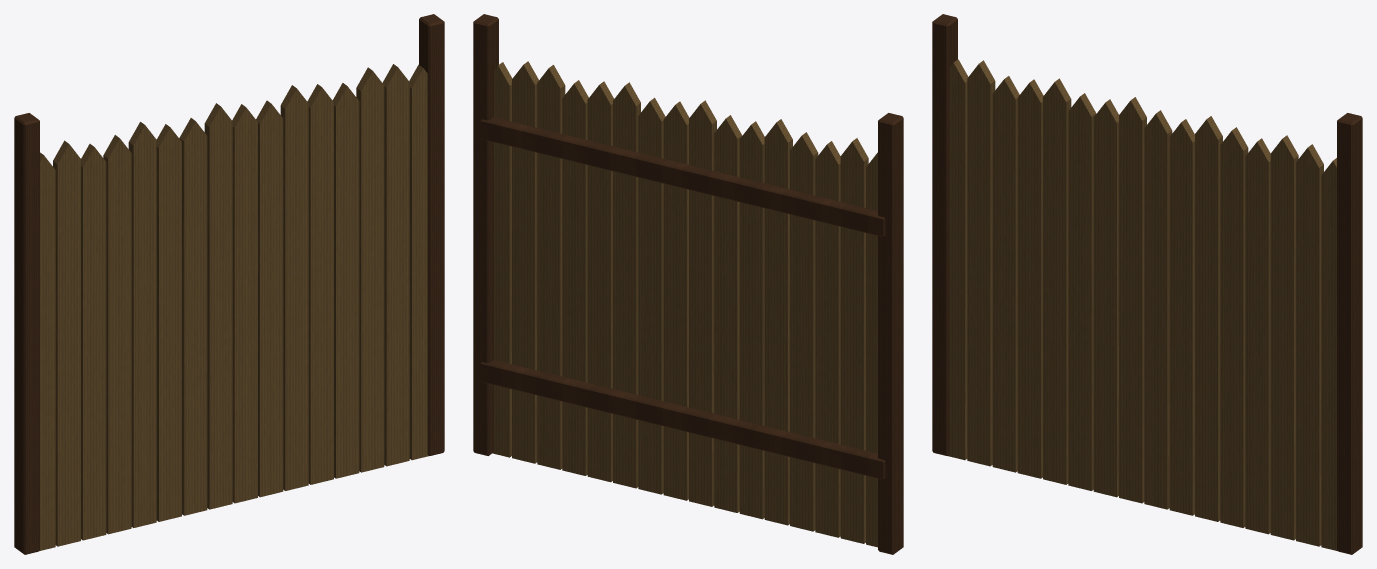
The model's file is level_enclosure_garden.glb.
The picture shows the model from 3 angles, left to right: view 1: azimuth 30°, elevation 25°; view 2: azimuth 150°, elevation 25°; view 3: azimuth 330°, elevation 25°; orthographic projection.
Visible parts, largest first — view 1: level_enclosure_garden; view 2: level_enclosure_garden; view 3: level_enclosure_garden.
Part boxes in pixels (x1=…): level_enclosure_garden: x1=14, y1=14, x2=444, y2=554; level_enclosure_garden: x1=473, y1=14, x2=903, y2=554; level_enclosure_garden: x1=932, y1=14, x2=1362, y2=554.
Bounding box in the file's own units: 2 × 1.96 × 0.0975.
Materials: 2 (2 with a texture image).
